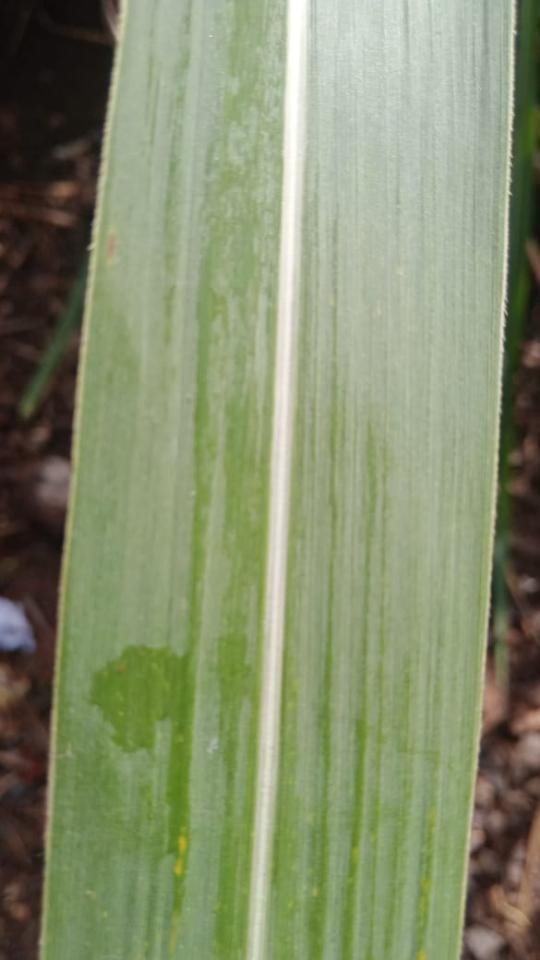Healthy: (41, 0, 516, 959)
